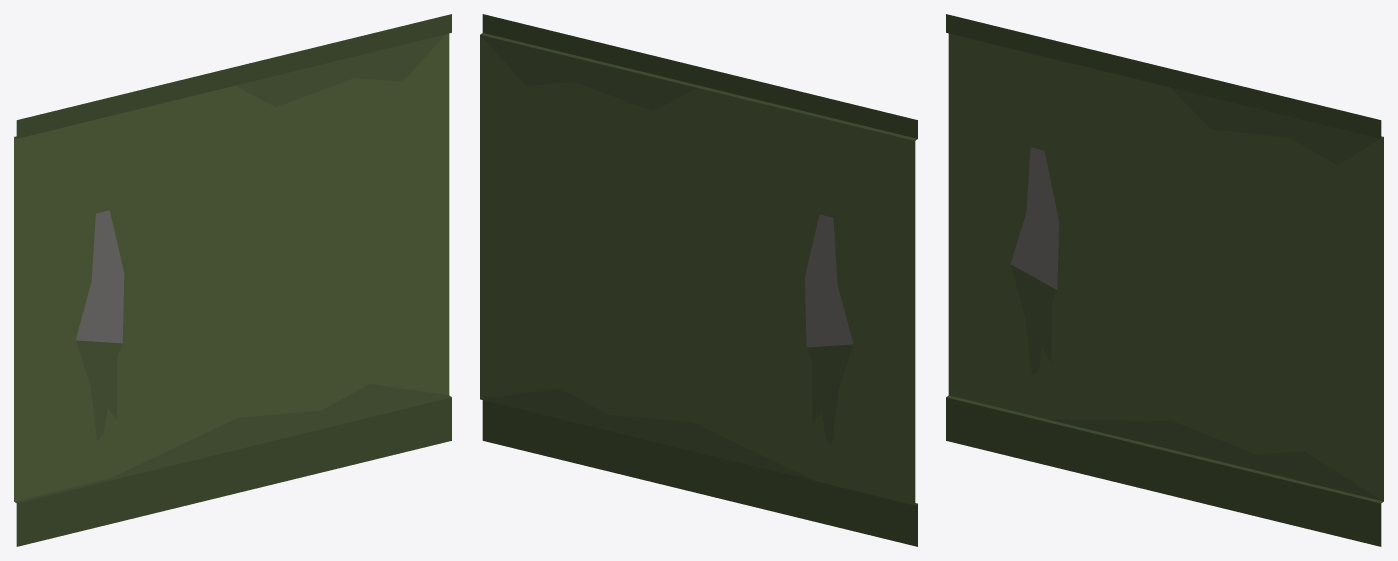
File: AI_Env_Wall_Green_TornWallpaper_01.fbx
3 renders of one model, left to right at view 1: azimuth 30°, elevation 25°; view 2: azimuth 150°, elevation 25°; view 3: azimuth 330°, elevation 25°, orthographic.
Visible parts, largest first — view 1: AI_Env_Wall_Green_TornWallpaper_01; view 2: AI_Env_Wall_Green_TornWallpaper_01; view 3: AI_Env_Wall_Green_TornWallpaper_01.
Part boxes in pixels (x1=…): AI_Env_Wall_Green_TornWallpaper_01: x1=14, y1=14, x2=451, y2=546; AI_Env_Wall_Green_TornWallpaper_01: x1=480, y1=14, x2=917, y2=546; AI_Env_Wall_Green_TornWallpaper_01: x1=946, y1=14, x2=1383, y2=546.
Bounding box in the file's own units: 5 × 4.69 × 0.0549.
